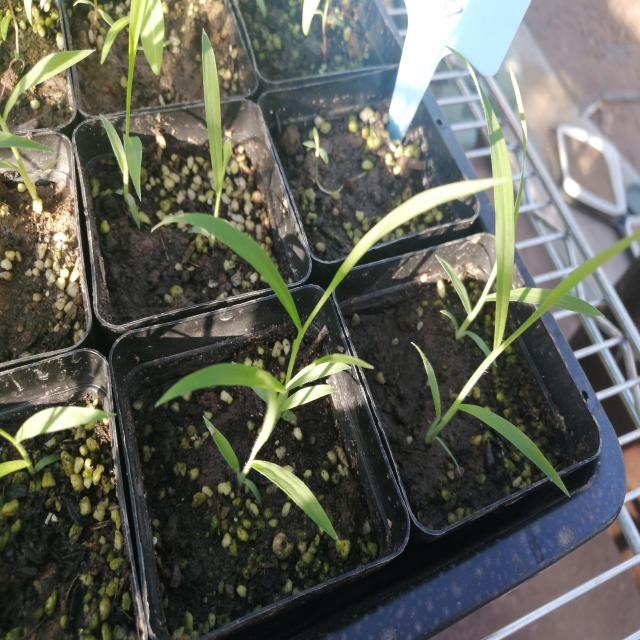crabgrass: (158, 206, 372, 564), (424, 76, 601, 483), (174, 33, 283, 213)
